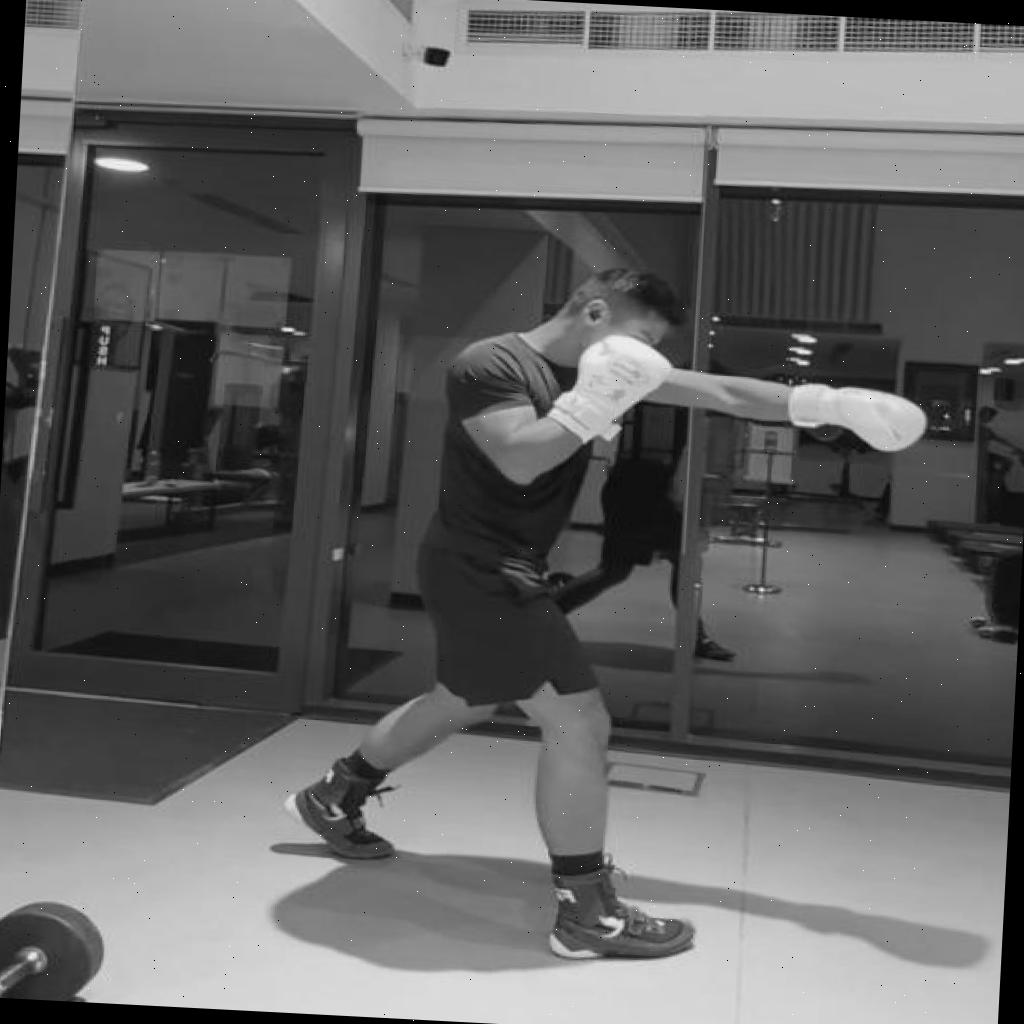cross: (268, 242, 940, 984)
